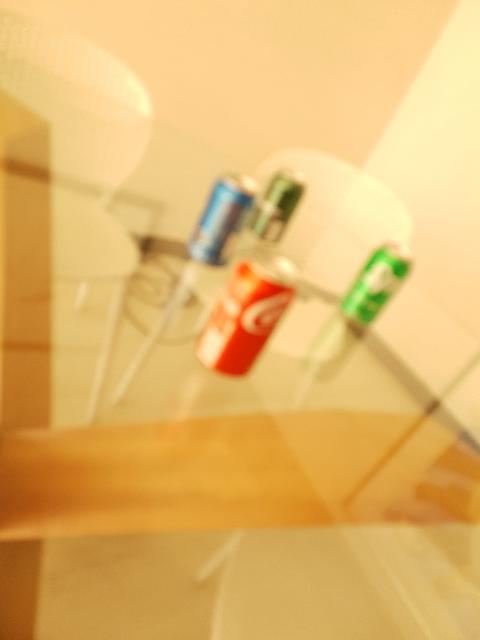coke: (195, 258, 298, 379)
pepsi: (190, 177, 252, 261)
schweppes: (255, 169, 305, 243)
sprite: (342, 245, 412, 331)
